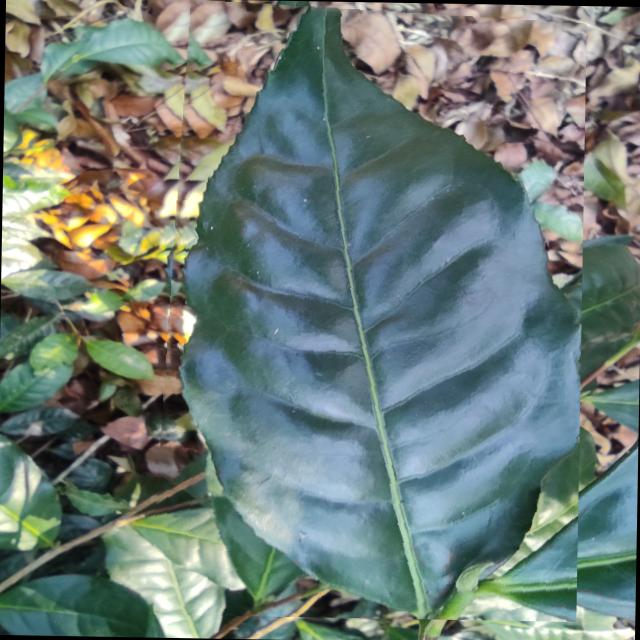Category D(7+ days, Not for Tea): (148, 0, 587, 620)
